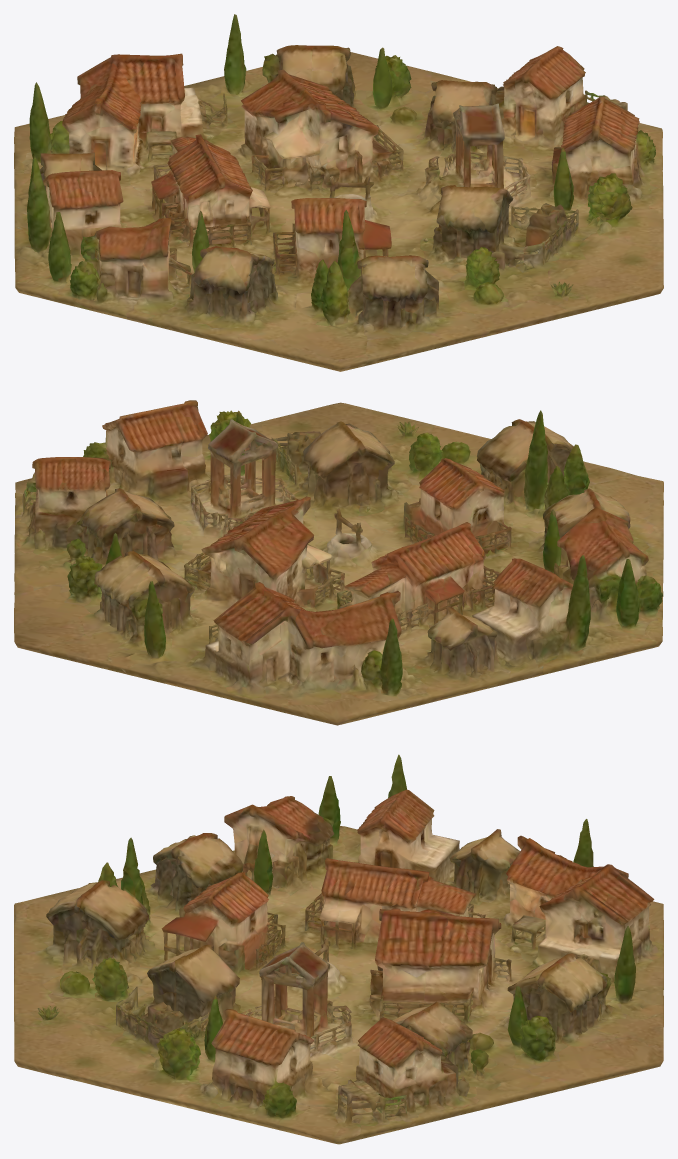
File: rome-l2.glb
3 views of the same model, one above another, from view 1: azimuth 30°, elevation 25°; view 2: azimuth 150°, elevation 25°; view 3: azimuth 270°, elevation 25° (orthographic).
Bounding box in the file's own units: 1.9 × 0.2962 × 1.66.
1 material, 1 textured.
